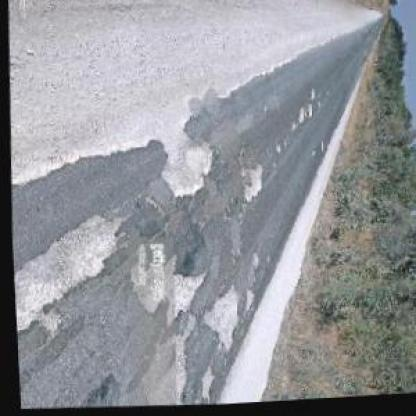pothole: (8, 207, 128, 341), (155, 132, 219, 202), (198, 286, 243, 355), (166, 268, 210, 320), (236, 165, 265, 207), (194, 363, 214, 402), (294, 107, 306, 126), (309, 92, 316, 104)
